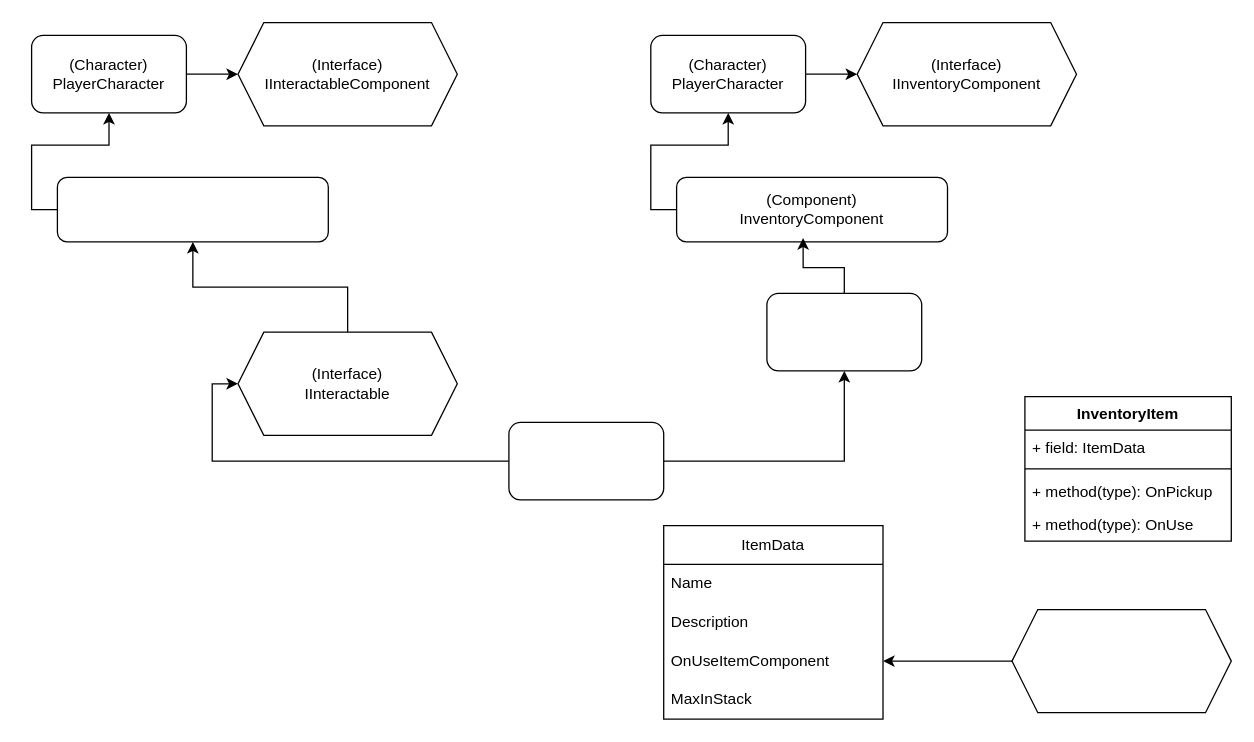
Some shapes in this 1254 by 742 pixel diagram are drawn without their labels. The shapes that lost their labels are listed below. From the top down, each one's centre as x and y in pixels, then its label:
At (192,209): "(Component) InteractableComponent".
At (844,331): "(UObject) InventoryItem".
At (586,460): "(Actor) InteractableItem".
At (1121,660): "(UObject) ItemComponent".
